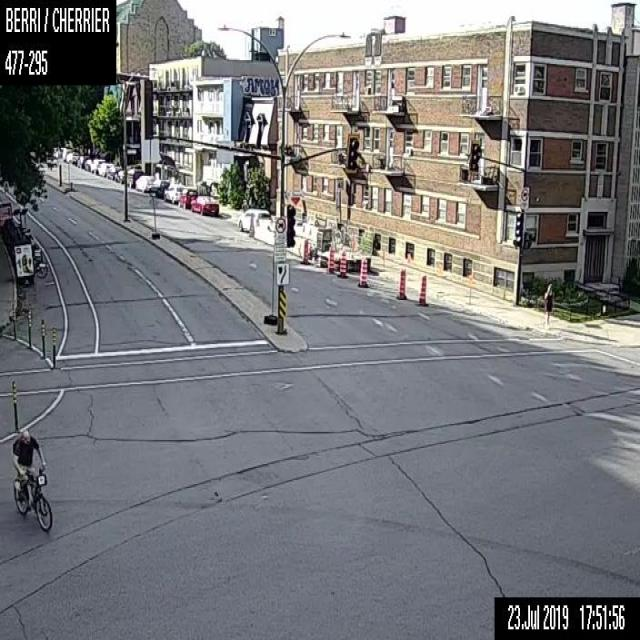construction: (11, 379, 17, 429), (418, 275, 427, 304), (435, 263, 443, 291), (464, 275, 472, 302), (359, 257, 366, 287), (398, 268, 405, 298), (40, 318, 45, 358), (405, 250, 412, 278), (339, 250, 346, 276), (378, 243, 386, 265), (26, 309, 30, 348), (51, 328, 55, 365), (328, 248, 334, 272), (11, 307, 15, 340), (304, 238, 308, 263)
cyclist: (11, 429, 52, 532)
pedestrian: (544, 276, 552, 328)
vehicle: (238, 209, 270, 231), (190, 194, 218, 214), (163, 183, 185, 202), (177, 188, 197, 207), (148, 179, 169, 196), (134, 174, 154, 191), (126, 168, 143, 187), (106, 164, 121, 180), (90, 158, 104, 174), (98, 162, 112, 176), (77, 155, 88, 168), (114, 170, 124, 182), (84, 158, 92, 170)
